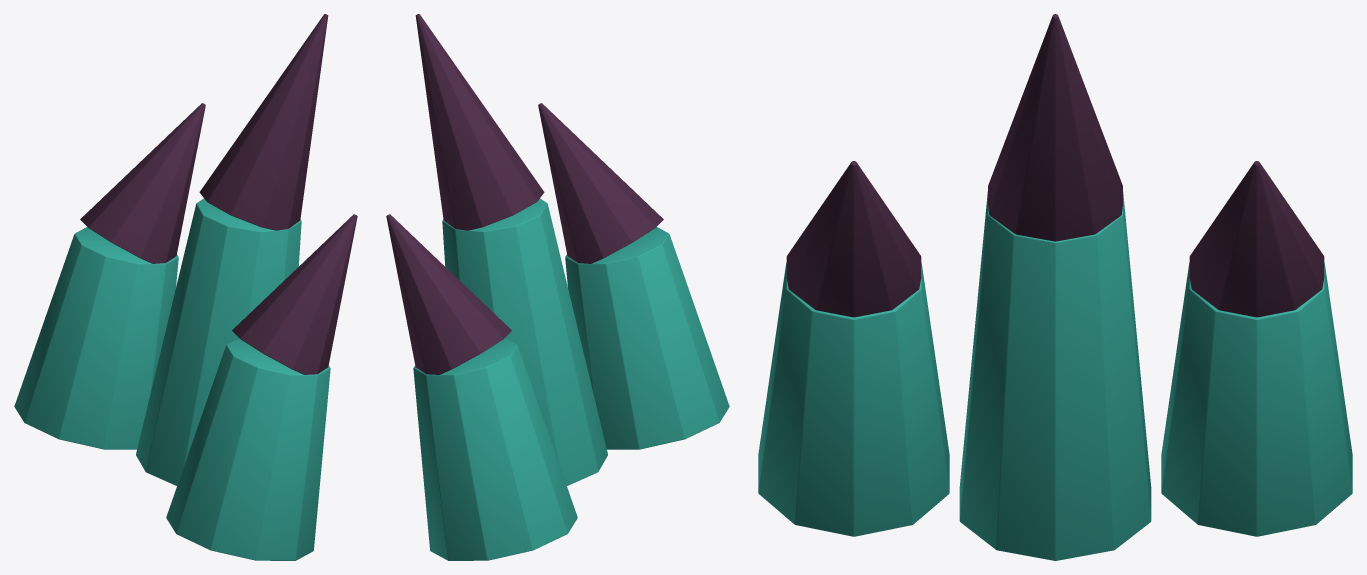
The model's file is horn_crown.glb.
3 views of the same model, side by side, from view 1: azimuth 30°, elevation 25°; view 2: azimuth 150°, elevation 25°; view 3: azimuth 270°, elevation 25° (orthographic). The views are drawn at different scales.
Visible parts, largest first — view 1: horn_crown; view 2: horn_crown; view 3: horn_crown.
Boxes of the visible parts, left/top/right/bottom form: horn_crown: left=14, top=14, right=357, bottom=560; horn_crown: left=386, top=14, right=729, bottom=560; horn_crown: left=758, top=14, right=1352, bottom=560.
Size of the model in its own units: 0.5885 by 1.09 by 1.
